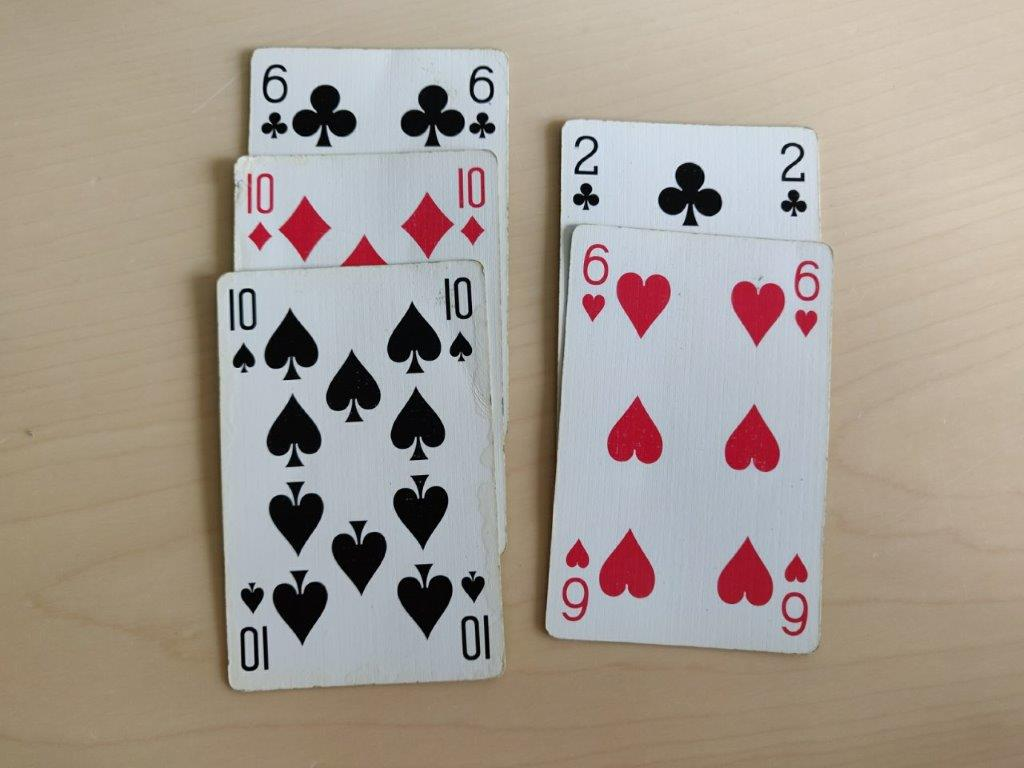10D: (452, 160, 488, 251), (238, 168, 276, 253)
10S: (436, 272, 477, 365), (222, 279, 261, 376)
2C: (772, 137, 811, 224), (566, 129, 601, 213)
6C: (464, 60, 500, 145), (258, 59, 292, 145)
6H: (575, 237, 612, 324), (789, 256, 825, 342)
